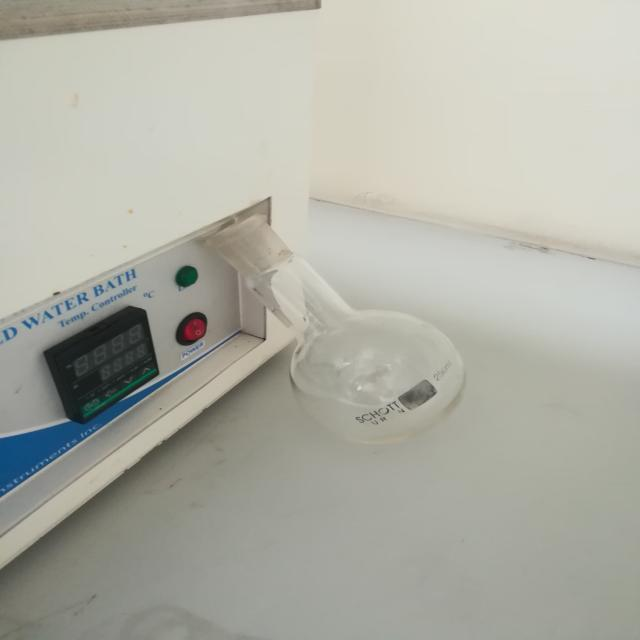Round_Bottom_Flask_Borosilicate_Glass_1_Neck: (170, 154, 496, 480)
